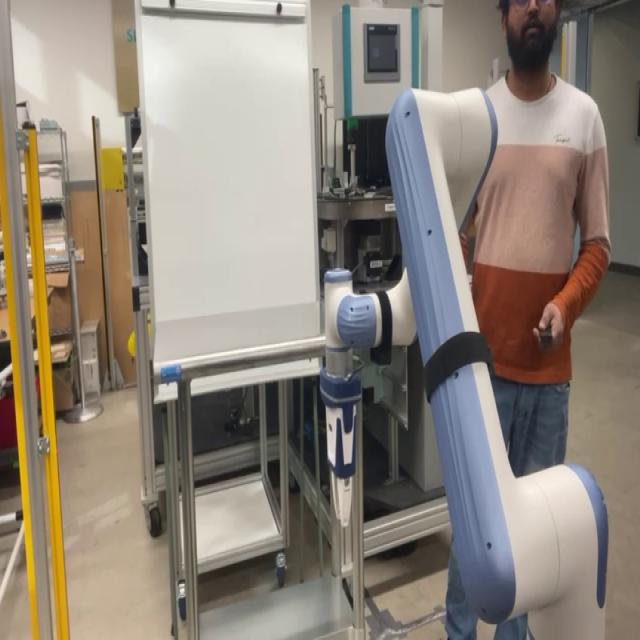human: (443, 0, 611, 639)
robot: (314, 81, 617, 640)
